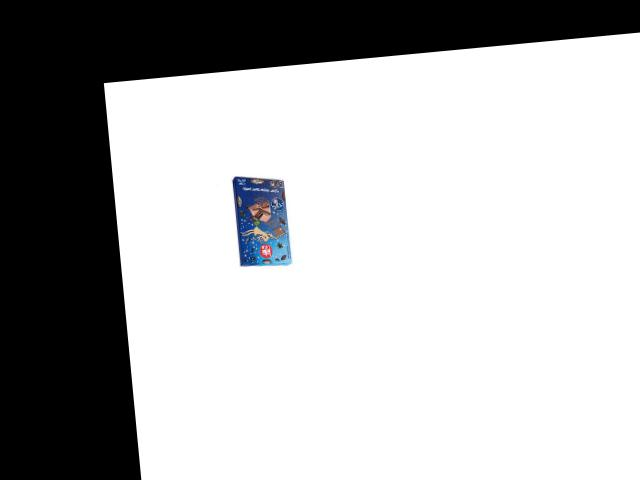chocolate: (225, 171, 298, 271)
